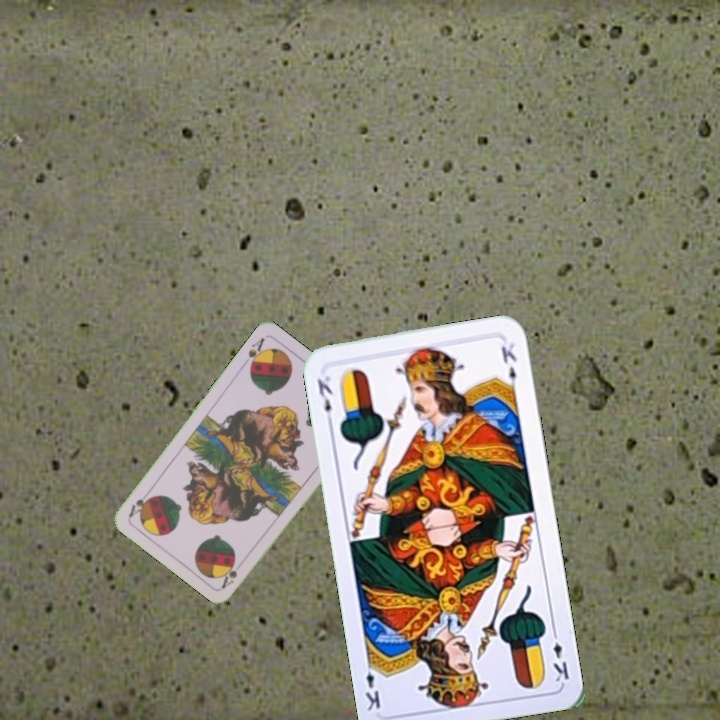EK: (548, 625, 572, 685), (313, 371, 336, 427)
SA: (239, 333, 268, 372), (217, 561, 240, 591)
